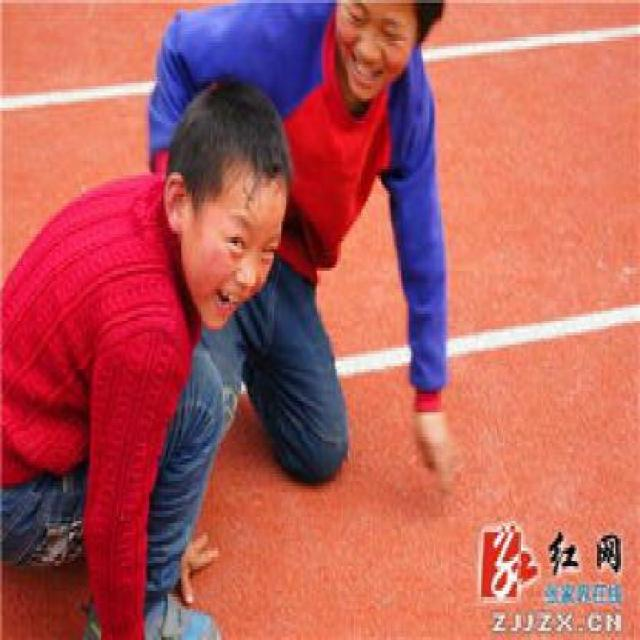fall: (131, 0, 488, 492)
